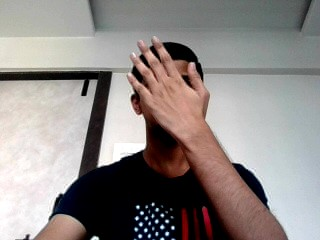hand: (125, 35, 212, 140)
